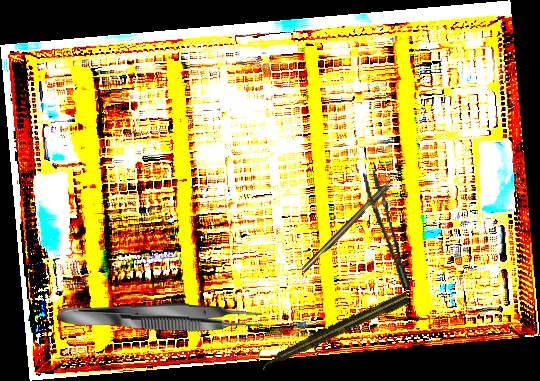Handpiece: (258, 290, 411, 373)
Hook Surgical: (300, 170, 403, 274)
Tissue Forceps: (57, 300, 263, 334), (362, 168, 411, 292)
